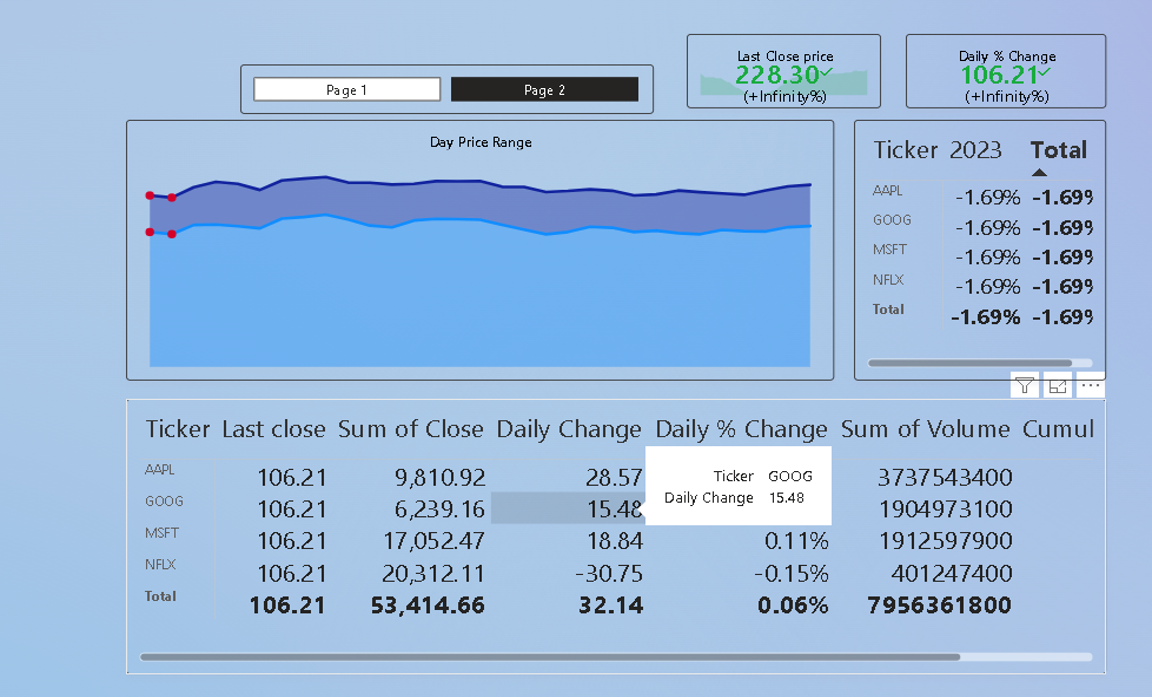

This screenshot's page, from the dashboard's own definition file:
{"tool":"powerbi","page":{"name":"Page 2","canvas":[1280,720],"ordinal":1},"visuals":[{"type":"kpi","title":"Last Close price ","fields":{"TrendLine":["calendar.Date"],"Goal":["Measure.Lowprice"],"Indicator":["Measure.MA20"]},"box":[708.6,47.8,188,75.2],"z":0},{"type":"stackedAreaChart","title":"Day Price Range","fields":{"Y":["Measure.Highprice","Measure.Lowprice"],"Category":["calendar.Date.Variation.Date Hierarchy.Year","calendar.Date.Variation.Date Hierarchy.Day"]},"box":[166.3,134.4,684.7,263.2],"z":2000},{"type":"pivotTable","fields":{"Rows":["stock-market.Ticker"],"Values":["Measure.Last close","Sum(stock-market.Close)","Measure.Daily Change","Measure.Daily % Change","Sum(stock-market.Volume)","Measure.Cumulative Return"]},"box":[166.3,415.8,947.8,278],"z":4000},{"type":"pivotTable","fields":{"Values":["Measure.Cumulative Return"],"Rows":["stock-market.Ticker"],"Columns":["calendar.Date.Variation.Date Hierarchy.Year"]},"box":[870.4,134.4,243.8,263.2],"z":5000},{"type":"kpi","title":" Daily % Change","fields":{"TrendLine":["calendar.Date"],"Goal":["Measure.Daily % Change"],"Indicator":["Measure.Last close"]},"box":[920.5,47.8,193.7,75.2],"z":5001},{"type":"pageNavigator","box":[276.8,78.6,399.9,50.1],"z":5003}]}

Visuals, with their boxes on the page's 1280x720 design canvas (x1, y1, x2, y2). These are canvas units, not pixel positions in the 1152x697 screenshot, which may show the page scaled, cropped or inside an application window:
"Last Close price " kpi: [x1=709, y1=48, x2=897, y2=123]
"Day Price Range" stackedAreaChart: [x1=166, y1=134, x2=851, y2=398]
pivotTable - stock-market.Ticker x Measure.Last close: [x1=166, y1=416, x2=1114, y2=694]
pivotTable - Measure.Cumulative Return x stock-market.Ticker: [x1=870, y1=134, x2=1114, y2=398]
" Daily % Change" kpi: [x1=920, y1=48, x2=1114, y2=123]
pageNavigator: [x1=277, y1=79, x2=677, y2=129]
